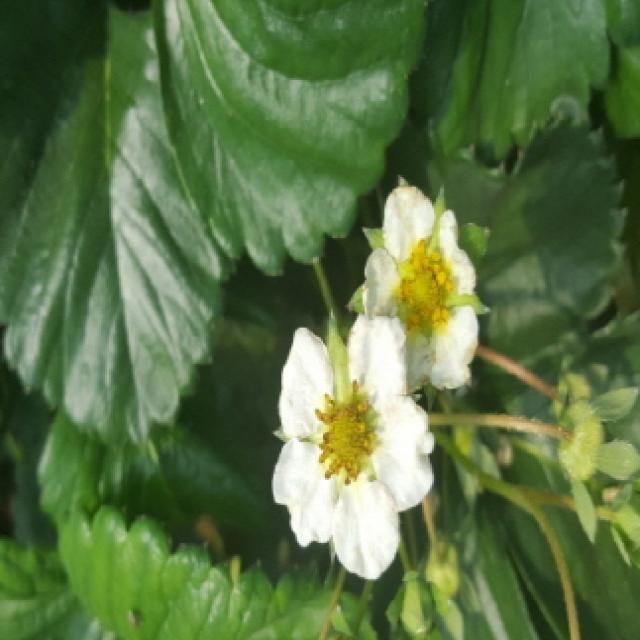Blossom Blight: (306, 377, 386, 487), (387, 240, 461, 346)
